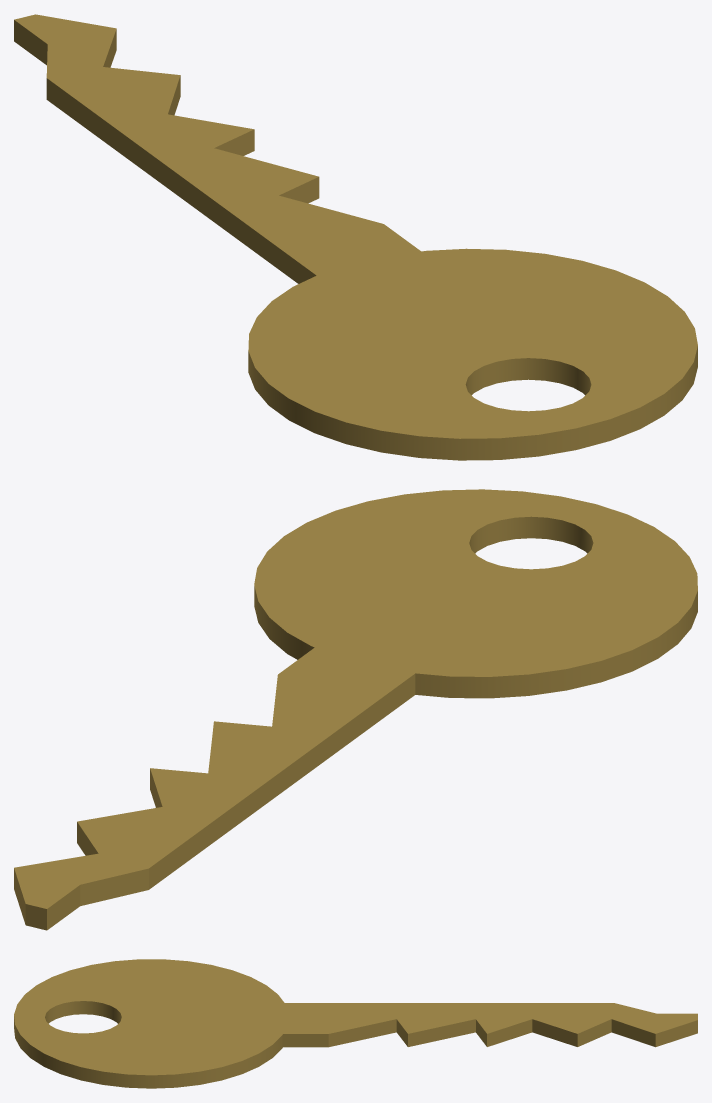
3 renders of one model, top to bottom at view 1: azimuth 30°, elevation 25°; view 2: azimuth 150°, elevation 25°; view 3: azimuth 270°, elevation 25°, orthographic. The views are drawn at different scales.
Visible parts, largest first — view 1: head; view 2: head; view 3: head.
Part boxes in pixels (left/top/right/bottom): head: left=14, top=14, right=697, bottom=460; head: left=14, top=489, right=697, bottom=930; head: left=14, top=959, right=697, bottom=1088.
Bounding box in the file's own units: 0.0243 × 0.0013 × 0.0605.
